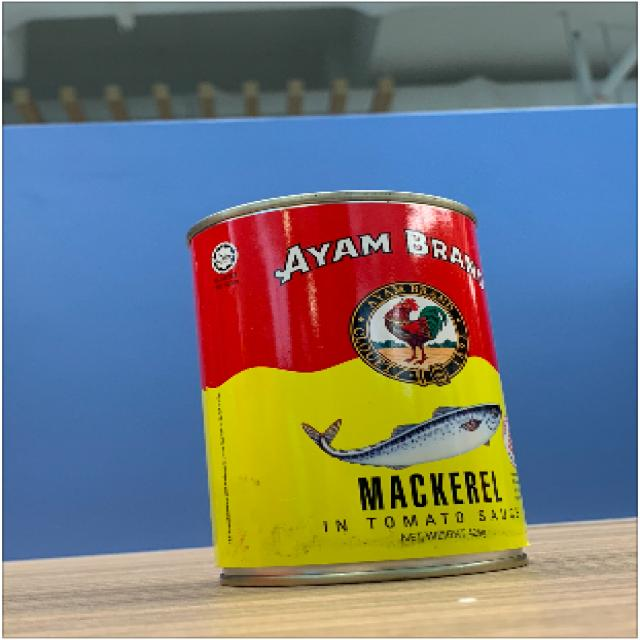object_name: (194, 199, 526, 575)
